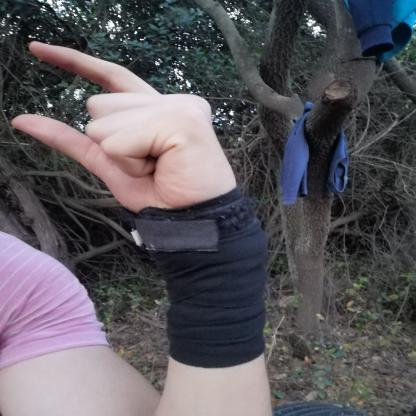DELL: (2, 31, 255, 226)
